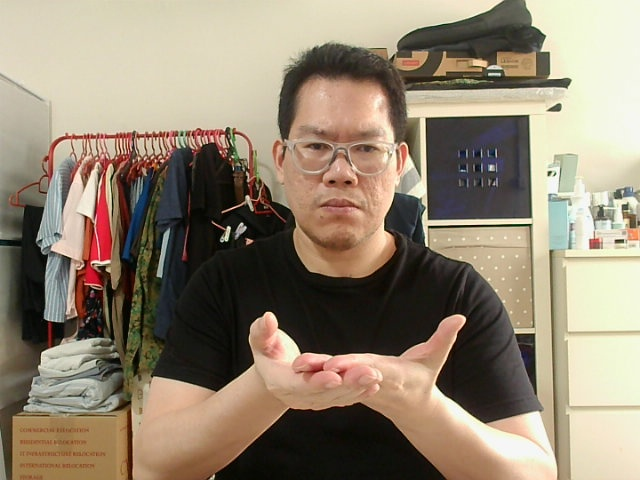good: (265, 323, 377, 382)
